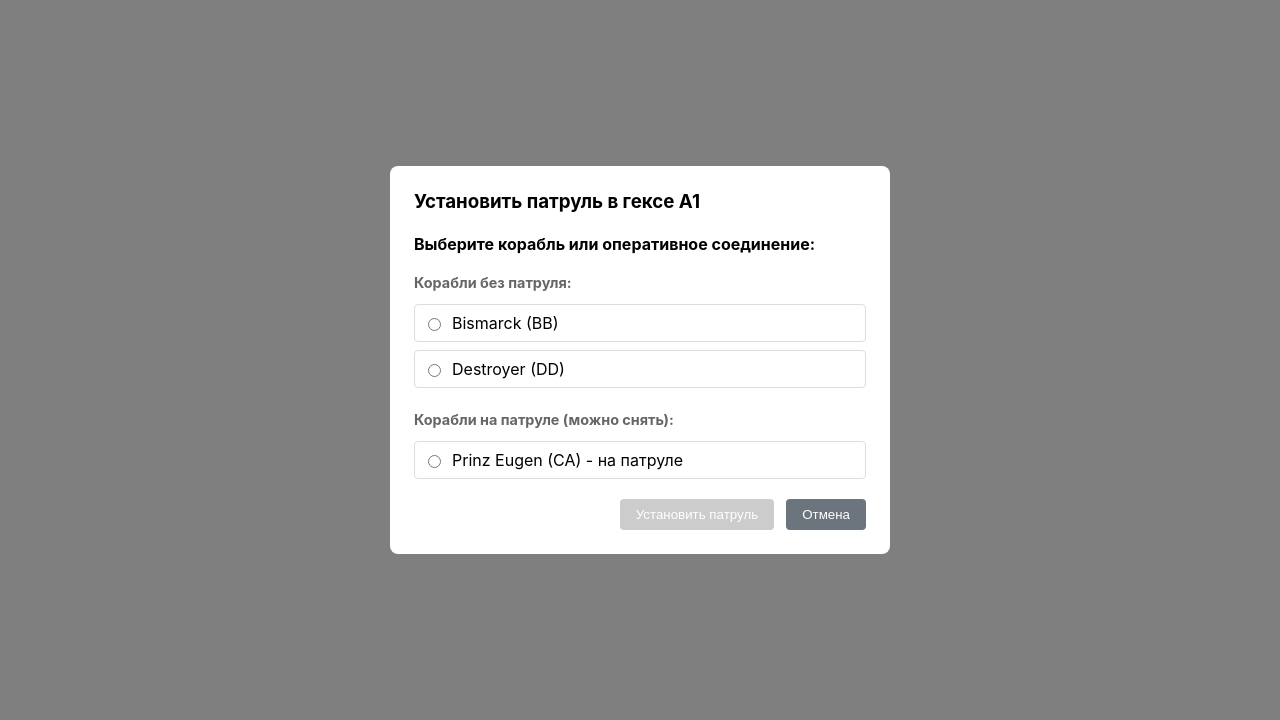
Test: PatrolDialog › Unit Selection › should allow selecting a unit with patrol
Click the radio button labelled "Prinz Eugen (CA) - на патруле". click: (434, 462)
box: [428,455,441,468]
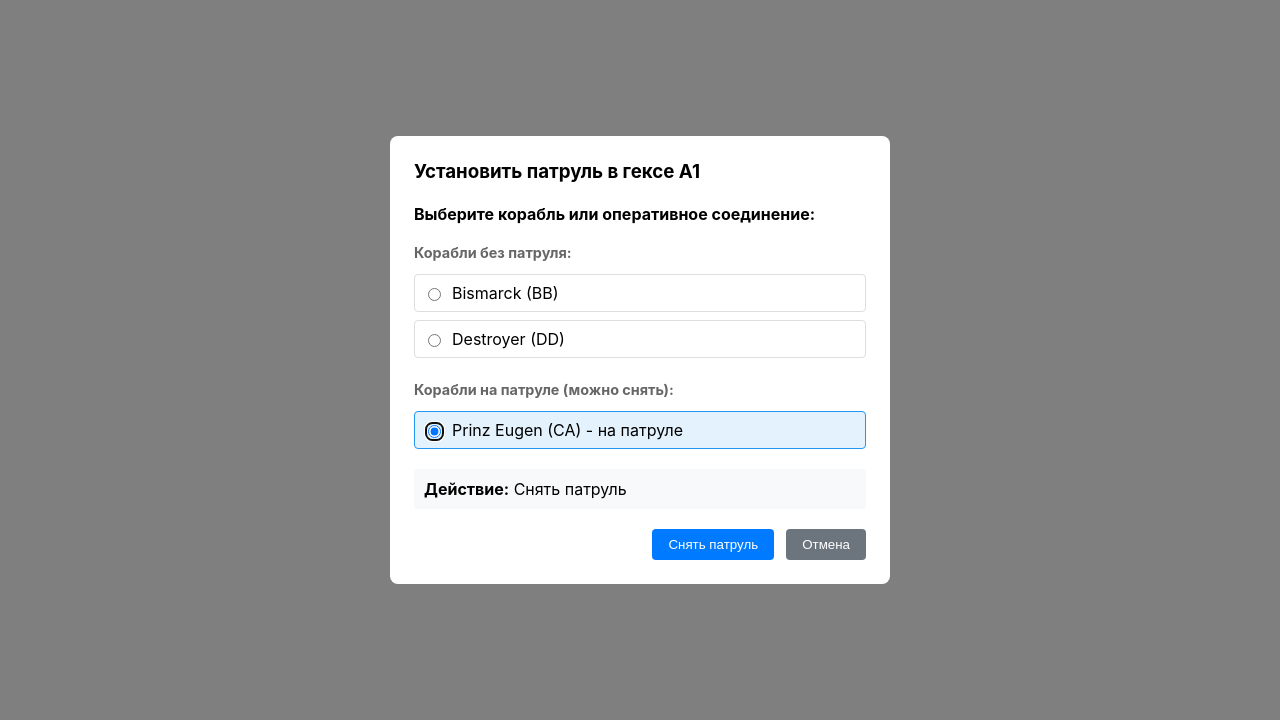
Expected: the radio button labelled "Prinz Eugen (CA) - на патруле" is checked, [428,425,441,438]
Expected: the text "Действие:" is shown, [424,479,509,499]
Expected: the text "Снять патруль" is shown, [514,479,627,499]
